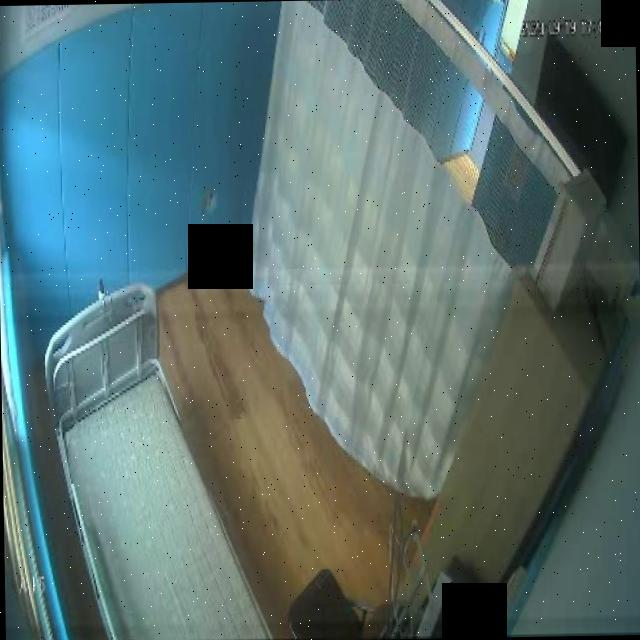bed: (42, 280, 273, 640)
